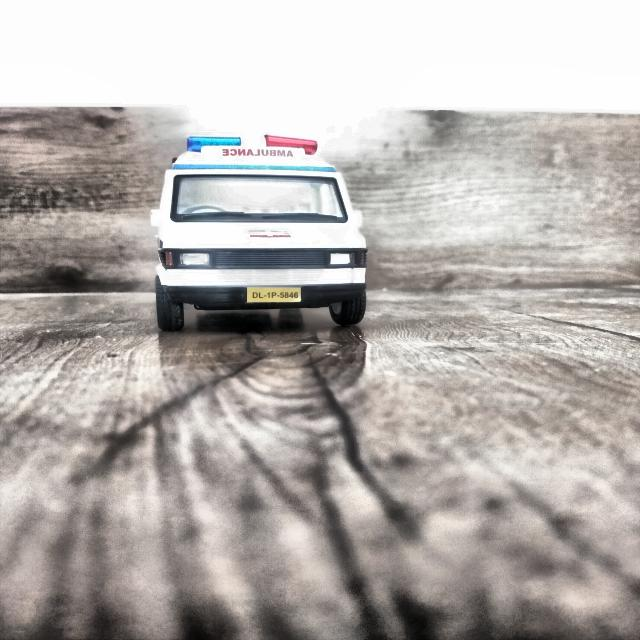Ambulance: (148, 125, 384, 342)
